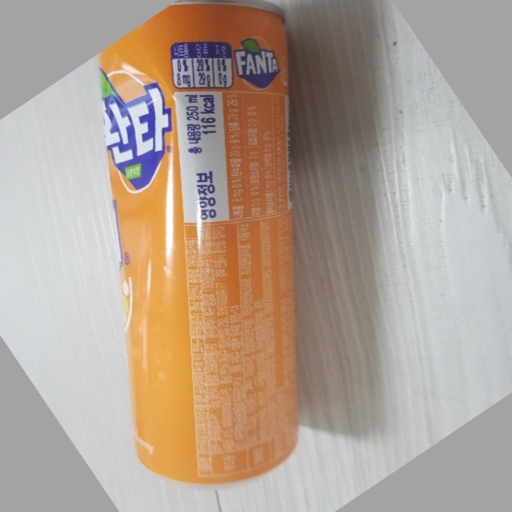Metal_0: (99, 2, 304, 485)
